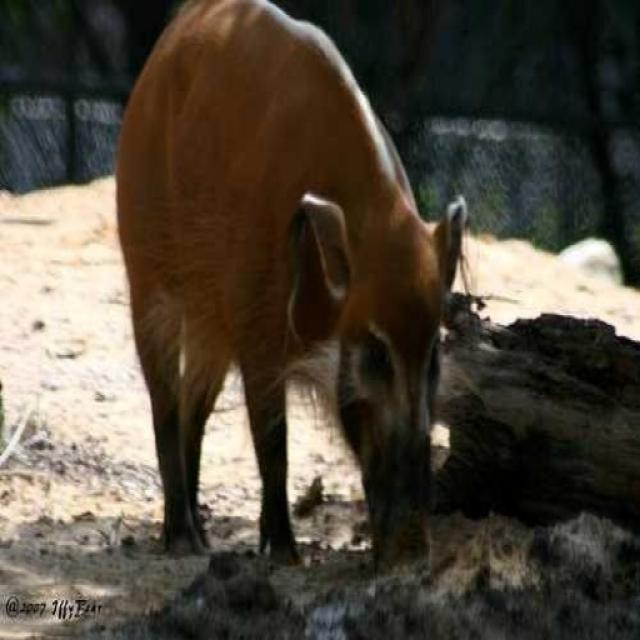pig: (138, 0, 481, 591)
